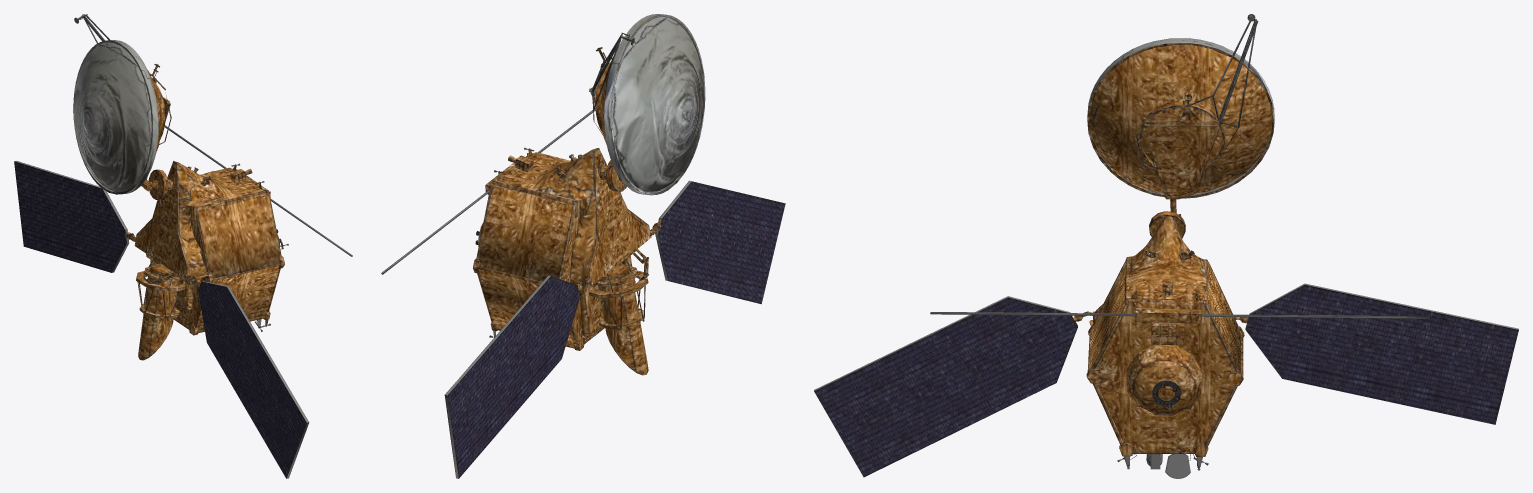
File: mro.glb
The picture shows the model from 3 angles, left to right: view 1: azimuth 30°, elevation 25°; view 2: azimuth 150°, elevation 25°; view 3: azimuth 270°, elevation 25°; orthographic projection. The views are drawn at different scales.
Visible parts, largest first — view 1: mro_proxy7, mro_proxy5, mro_proxy3, mro_proxy6, mro_proxy2; view 2: mro_proxy7, mro_proxy5, mro_proxy3, mro_proxy6, mro_proxy2; view 3: mro_proxy7, mro_proxy6, mro_proxy5.
Part boxes in pixels (x1,y1,x2,y2): mro_proxy7: (14,14,352,478); mro_proxy5: (134,161,213,335); mro_proxy3: (129,173,193,360); mro_proxy6: (230,163,284,328); mro_proxy2: (137,259,181,320); mro_proxy7: (381,14,785,478); mro_proxy5: (477,148,660,350); mro_proxy3: (581,160,658,375); mro_proxy6: (473,147,534,337); mro_proxy2: (601,249,648,330); mro_proxy7: (814,14,1518,477); mro_proxy6: (1086,281,1243,470); mro_proxy5: (1082,217,1244,478).
Size of the model in its own units: 32.76 by 61.01 by 89.74.
11 materials, 11 textured.
